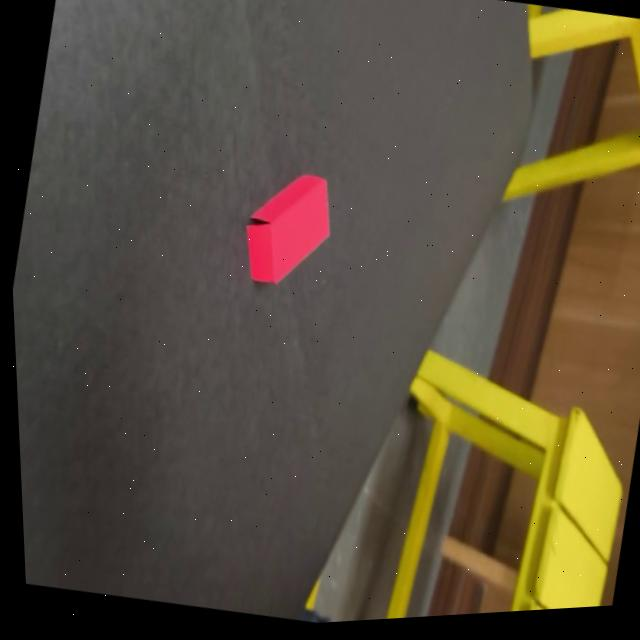red block: (234, 161, 345, 298)
